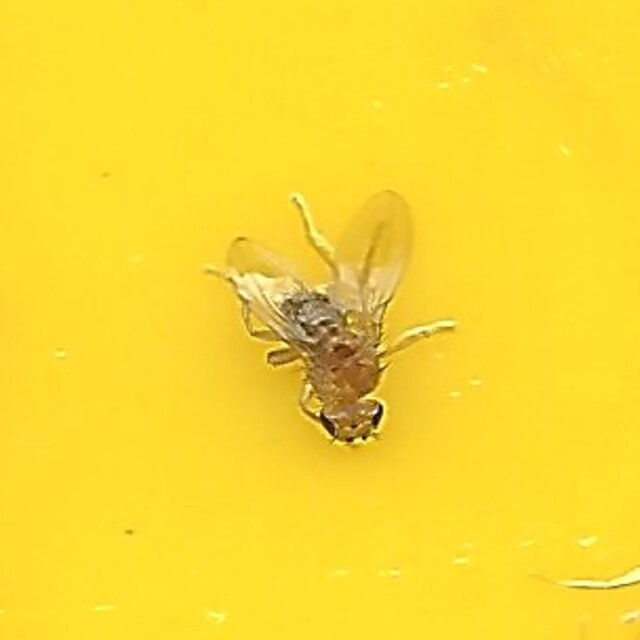Brachycera: (211, 187, 429, 453)
